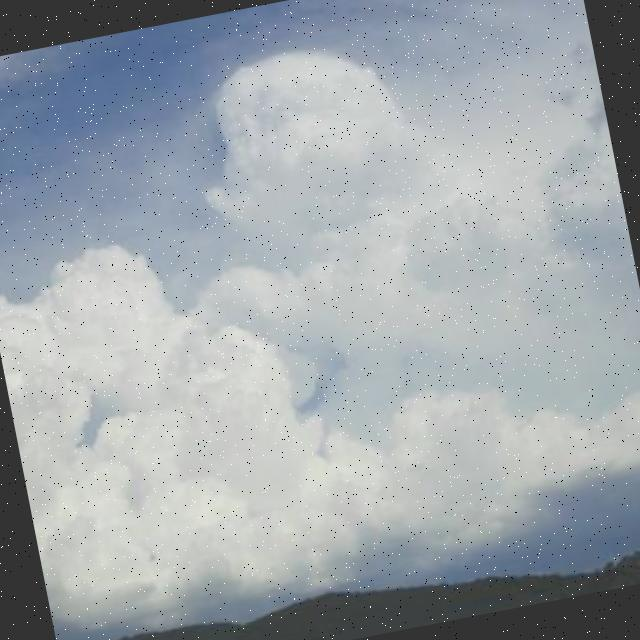Cb: (1, 1, 640, 625)
